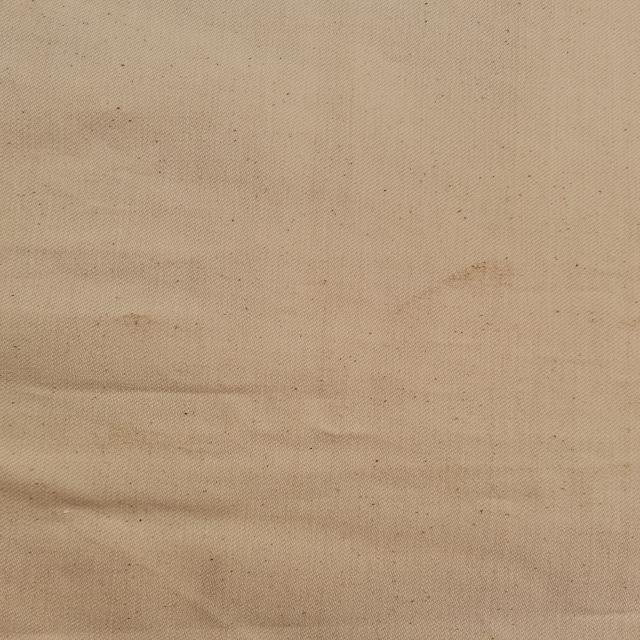taaaches: (393, 248, 537, 326), (110, 310, 170, 332)
